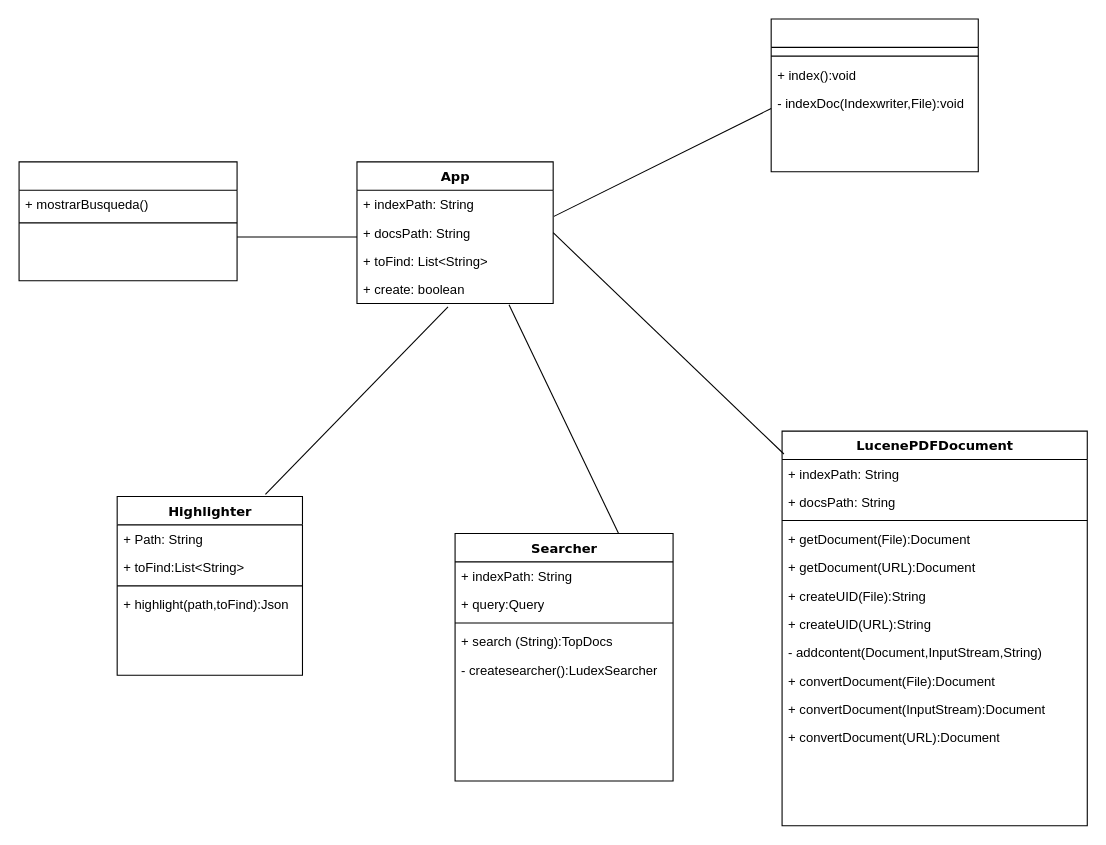
The diagram is 1106 pixels wide and 845 high, and some of its shapes have lost their labels. The box of each missing label's shape, as (x1, y1, x2, y2) in pixels:
IndexPDFFile: (770, 18, 978, 172)
IU Busqueda: (18, 161, 237, 281)
